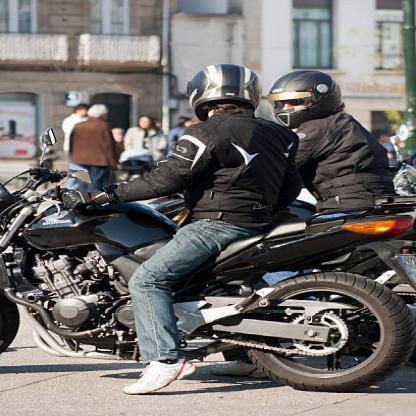Motorcycle: (0, 161, 415, 392)
